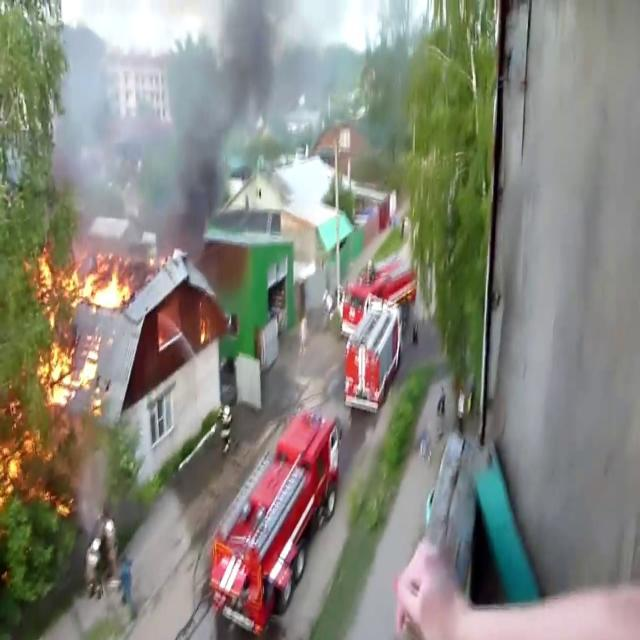Fire: (32, 248, 124, 399)
Smoke: (489, 0, 640, 622), (44, 0, 298, 252)
